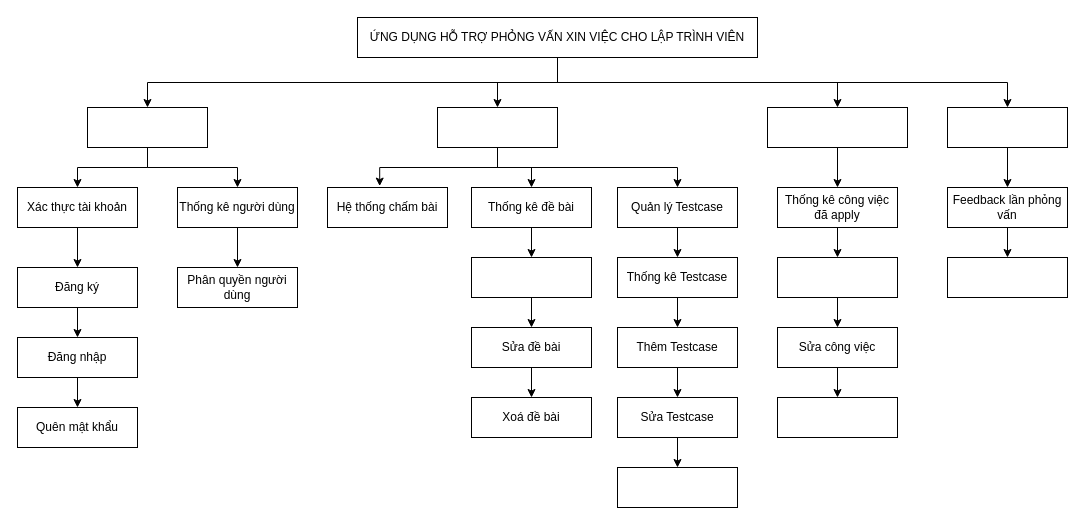
Some shapes in this 1085 by 525 pixel diagram are drawn without their labels. The shapes that lost their labels are listed below. From the top down, each one's centre as x and y in pixels, then its label:
At point 147,127: "Quản lý người dùng".
At point 497,127: "Quản lý đề bài".
At point 837,127: "Theo dõi quá trình xin việc".
At point 1007,127: "Luyện phỏng vấn thử".
At point 531,277: "Thêm đề bài".
At point 837,277: "Thêm công việc".
At point 1007,277: "Thống kê lần phỏng vấn".
At point 837,417: "Xoá công việc".
At point 677,487: "Xoá Testcase".
